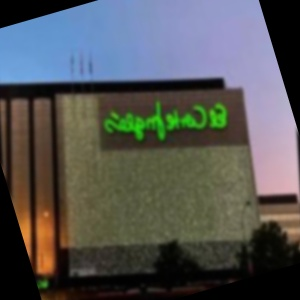corte_ingles: (160, 5, 283, 125)
